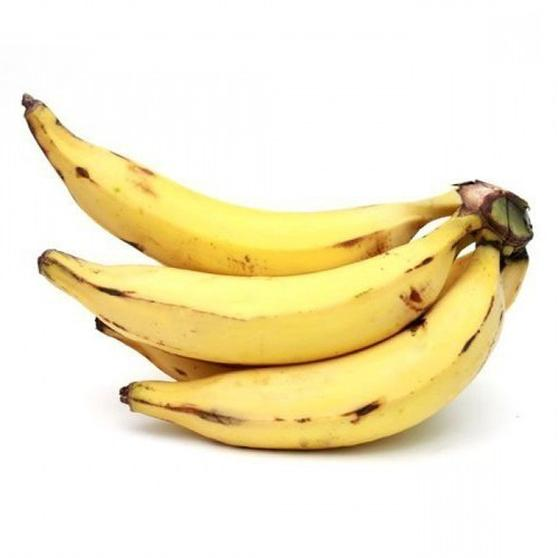banana: (9, 77, 518, 268)
